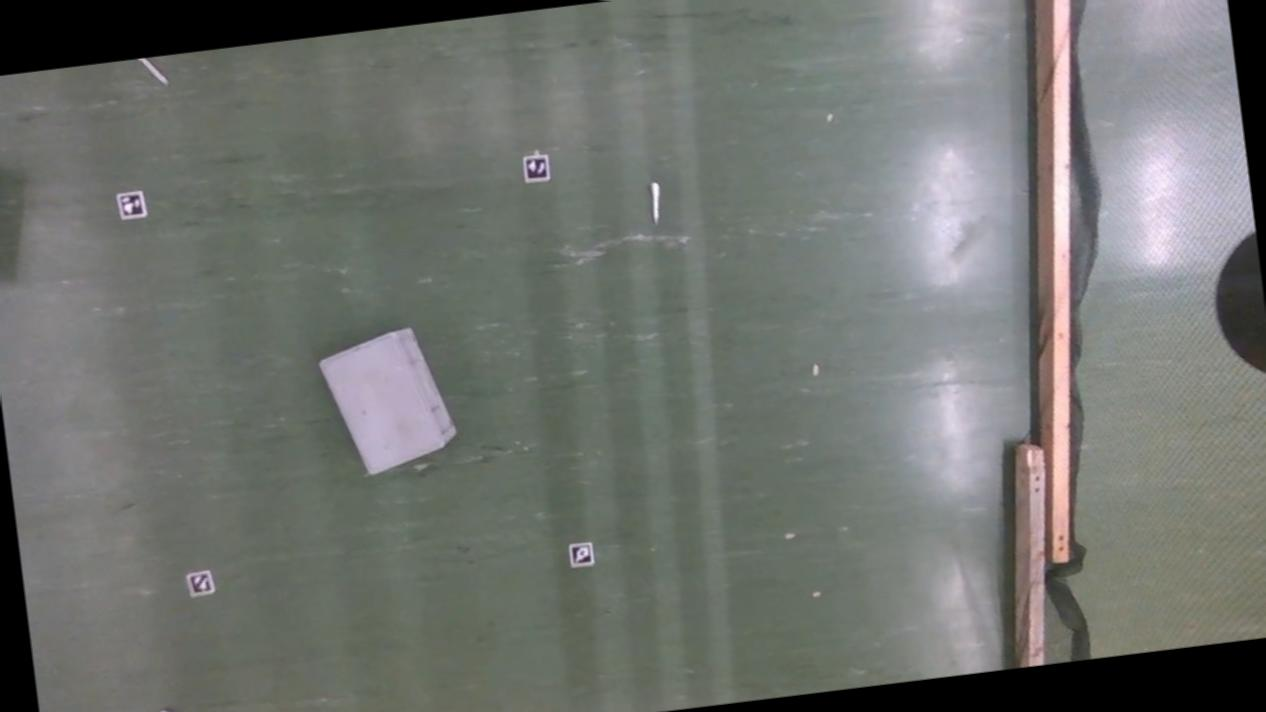probes: (138, 55, 166, 86), (649, 180, 662, 220), (159, 704, 193, 712)
rako: (315, 320, 460, 478)
